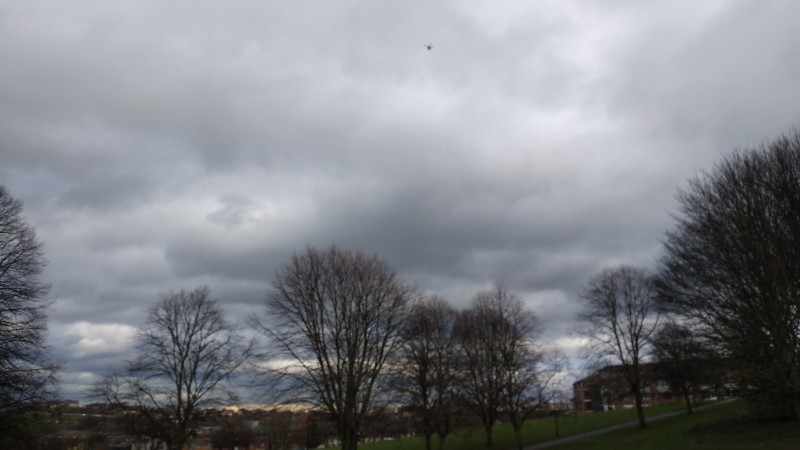drone: (424, 43, 436, 53)
